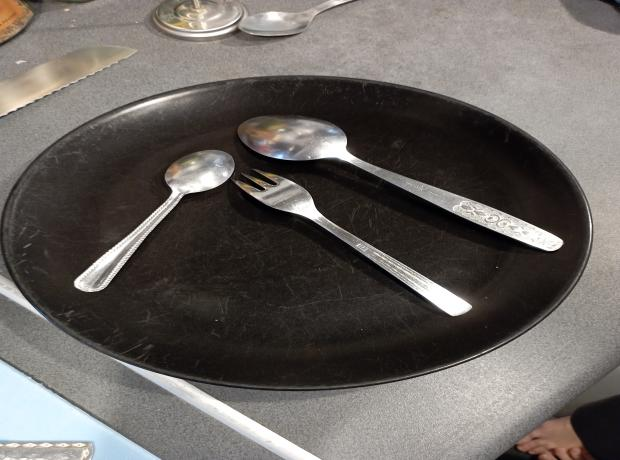metal: (238, 113, 566, 254), (234, 169, 475, 317), (72, 147, 239, 293)
